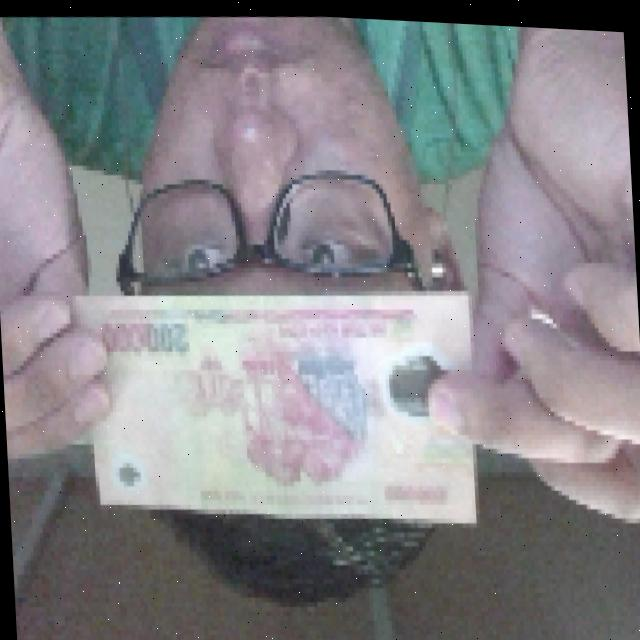200 000 VND: (67, 264, 486, 548)
